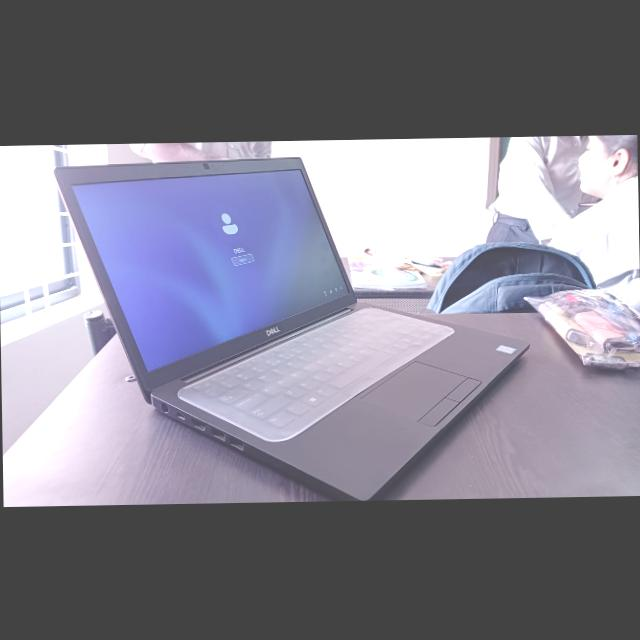laptop: (40, 147, 518, 498)
